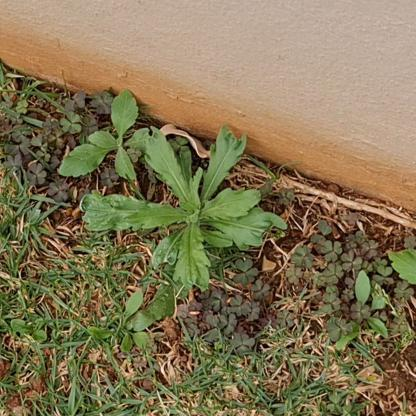Weeds: (83, 121, 289, 291), (60, 90, 164, 185), (326, 270, 390, 353), (85, 291, 158, 357)
